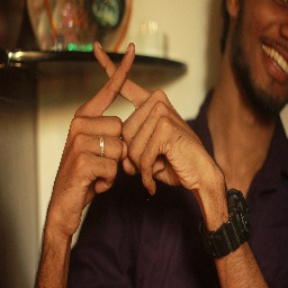X: (63, 33, 181, 146)
